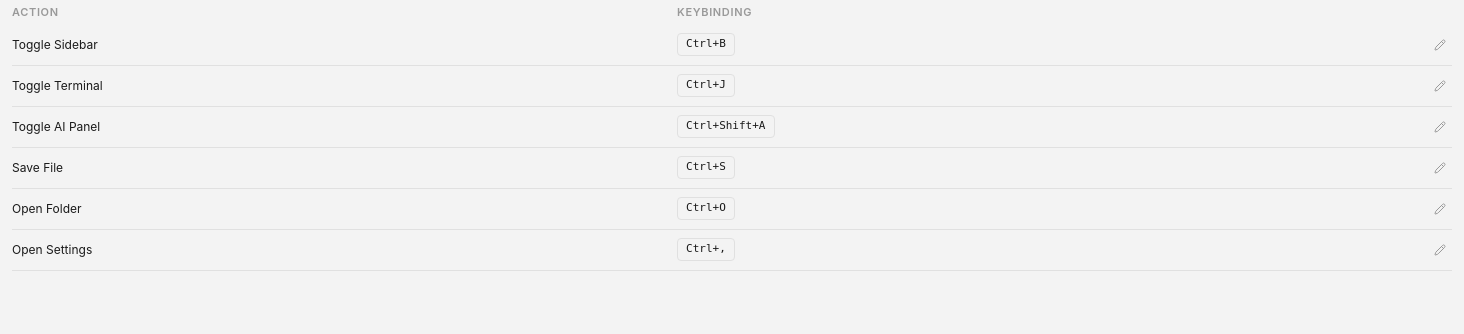
Test case: KeybindingsSettings › enters recording mode when row clicked
The width and height of the screenshot is (1464, 334).
Click the button titled "Edit" in the row of "Toggle Sidebar": [1440, 44] box [1428,32,1452,56]
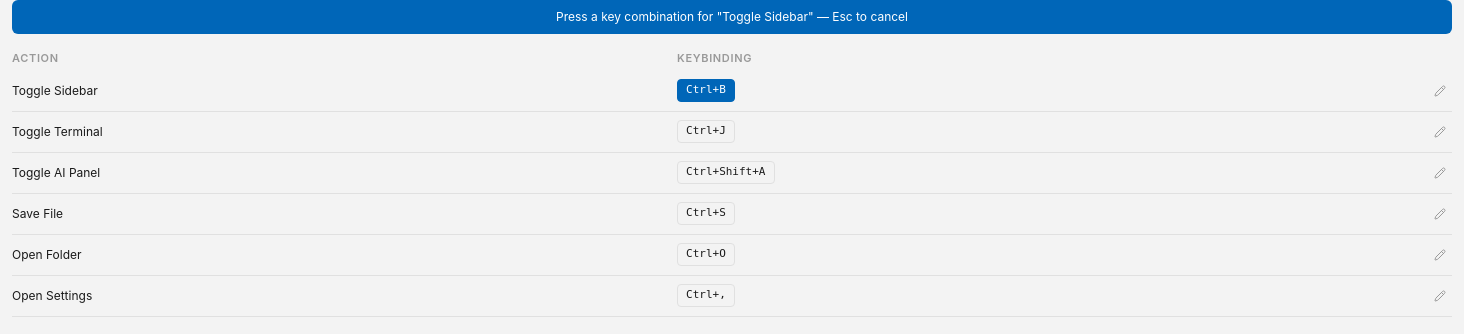
Expected: the text "Press a key combination for \"Toggle Sidebar\" — Esc to cancel" is shown, [12,0,1452,34]
